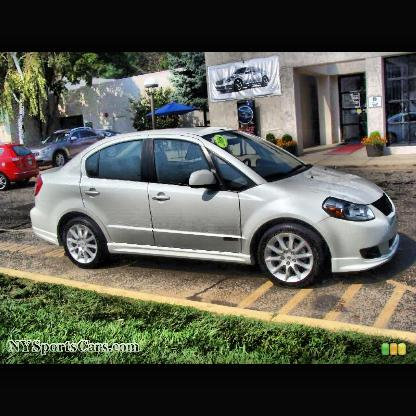Suzuki SX4 Sedan 2012: (28, 125, 400, 293)
